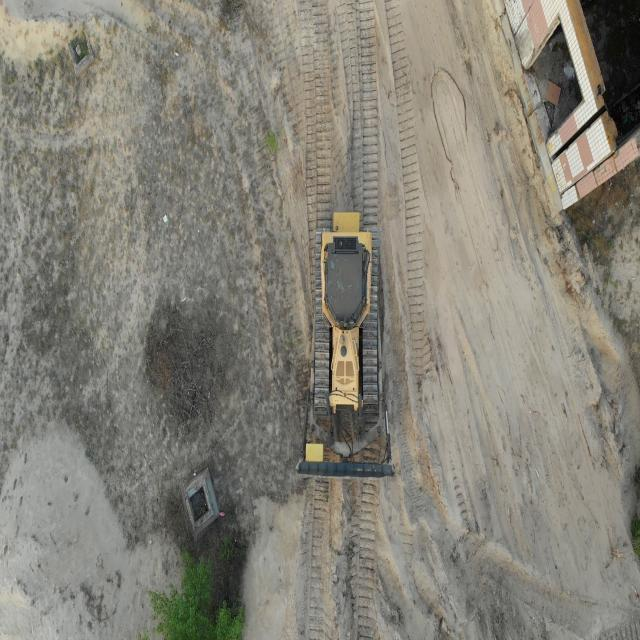vehicle: (297, 203, 397, 482)
